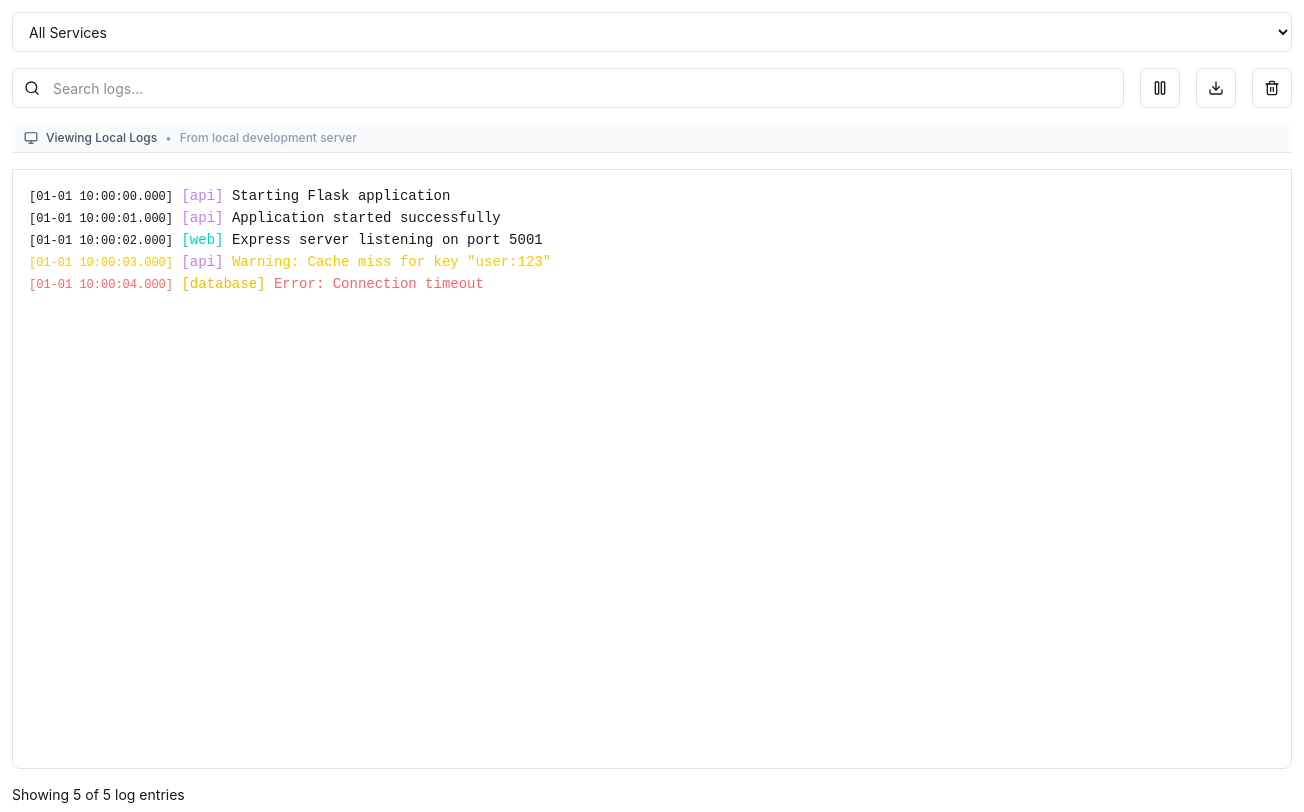
LogsView › should show "no matching logs" when search returns empty
Expected: the text "Starting Flask application" is shown, [232,188,450,204]
Type "nonexistenttext12345" into the field with placeholder "Search logs..." at (568, 88), box [12,68,1124,108]
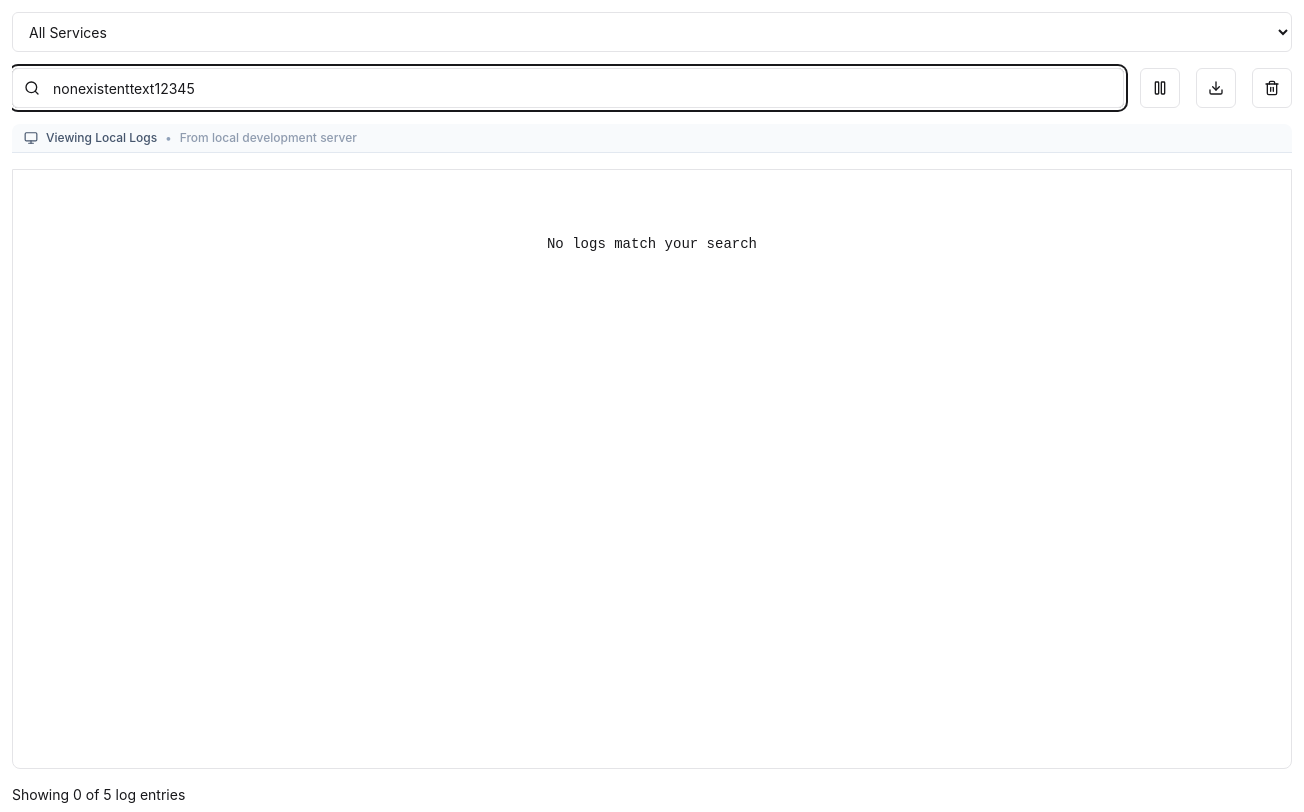
Now the text "No logs match your search" is shown, box [547,236,757,252]
